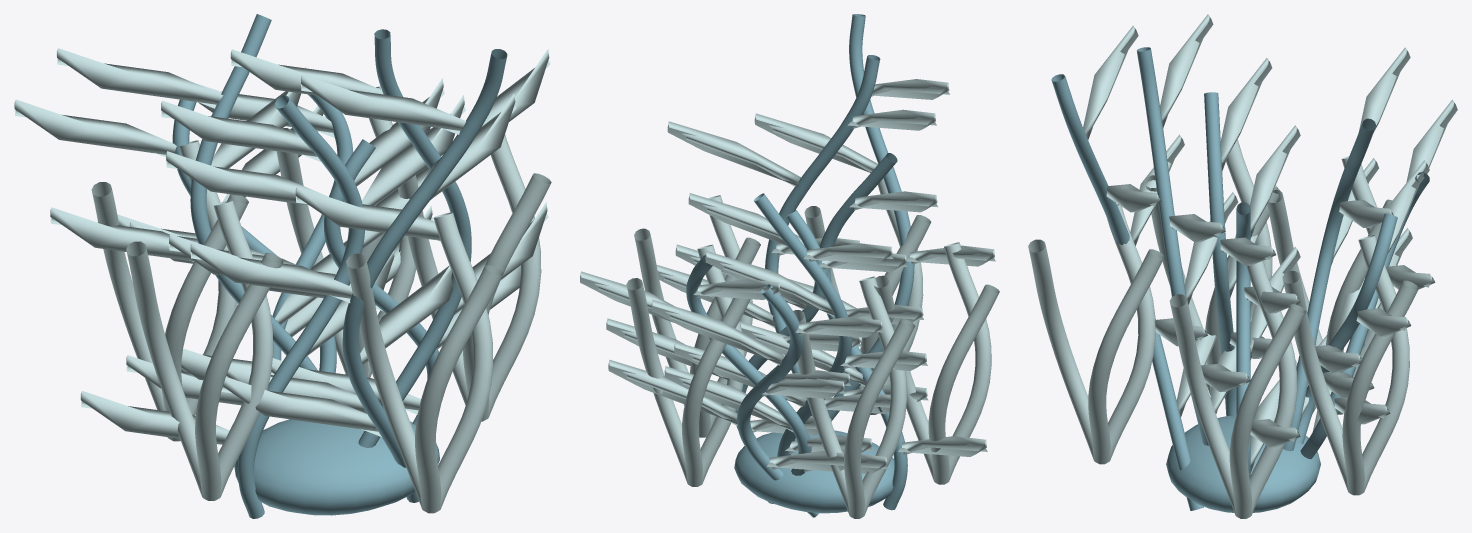
The model's file is bio_aquatic_frond_04_near.glb.
The picture shows the model from 3 angles, left to right: view 1: azimuth 30°, elevation 25°; view 2: azimuth 150°, elevation 25°; view 3: azimuth 270°, elevation 25°; orthographic projection. The views are drawn at different scales.
Visible parts, largest first — view 1: Spiral filament.006, Ruffled aquatic blade.010, Spiral filament.012, Holdfast, Ruffled aquatic blade.020, Ruffled aquatic blade.025, Ruffled aquatic blade.005, Spiral filament, Spiral filament.003, Flexible stipe.002, Flexible stipe.004, Ruffled aquatic blade (+8 smaller); view 2: Spiral filament.003, Ruffled aquatic blade.030, Spiral filament.012, Spiral filament.009, Ruffled aquatic blade.020, Ruffled aquatic blade.005, Ruffled aquatic blade.025, Ruffled aquatic blade.015, Holdfast, Ruffled aquatic blade.010, Spiral filament, Ruffled aquatic blade (+8 smaller); view 3: Spiral filament.006, Spiral filament, Spiral filament.009, Holdfast, Ruffled aquatic blade.025, Ruffled aquatic blade, Ruffled aquatic blade.010, Flexible stipe.002, Ruffled aquatic blade.005, Flexible stipe.004, Flexible stipe.005, Flexible stipe.001 (+8 smaller).
Part boxes in pixels (bbox=[...]): Spiral filament.006: bbox=[346, 212, 503, 513]; Ruffled aquatic blade.010: bbox=[190, 74, 516, 437]; Spiral filament.012: bbox=[126, 200, 283, 500]; Holdfast: bbox=[234, 419, 439, 515]; Ruffled aquatic blade.020: bbox=[80, 95, 465, 444]; Ruffled aquatic blade.025: bbox=[226, 49, 550, 413]; Ruffled aquatic blade.005: bbox=[50, 48, 347, 380]; Spiral filament: bbox=[398, 134, 551, 421]; Spiral filament.003: bbox=[91, 140, 248, 441]; Flexible stipe.002: bbox=[342, 49, 507, 502]; Flexible stipe.004: bbox=[237, 95, 364, 518]; Ruffled aquatic blade: bbox=[166, 151, 520, 414]; Spiral filament.003: bbox=[793, 276, 915, 518]; Ruffled aquatic blade.030: bbox=[608, 299, 883, 471]; Spiral filament.012: bbox=[874, 242, 999, 484]; Spiral filament.009: bbox=[626, 244, 750, 486]; Ruffled aquatic blade.020: bbox=[688, 191, 987, 456]; Ruffled aquatic blade.005: bbox=[674, 243, 927, 453]; Ruffled aquatic blade.025: bbox=[656, 109, 936, 413]; Ruffled aquatic blade.015: bbox=[580, 271, 887, 473]; Holdfast: bbox=[734, 430, 894, 513]; Ruffled aquatic blade.010: bbox=[754, 79, 995, 401]; Spiral filament: bbox=[634, 195, 760, 437]; Ruffled aquatic blade: bbox=[606, 244, 907, 435]; Spiral filament.006: bbox=[1028, 204, 1164, 464]; Spiral filament: bbox=[1169, 261, 1306, 518]; Spiral filament.009: bbox=[1282, 235, 1418, 495]; Holdfast: bbox=[1166, 415, 1320, 512]; Ruffled aquatic blade.025: bbox=[1160, 14, 1251, 413]; Ruffled aquatic blade: bbox=[1244, 125, 1300, 472]; Ruffled aquatic blade.010: bbox=[1083, 25, 1217, 416]; Flexible stipe.002: bbox=[1051, 74, 1203, 510]; Ruffled aquatic blade.005: bbox=[1300, 47, 1410, 422]; Flexible stipe.004: bbox=[1204, 92, 1236, 415]; Flexible stipe.005: bbox=[1137, 47, 1208, 445]; Flexible stipe.001: bbox=[1283, 118, 1376, 451].
Bounding box in the file's own units: 1.8 × 1.89 × 1.66.
